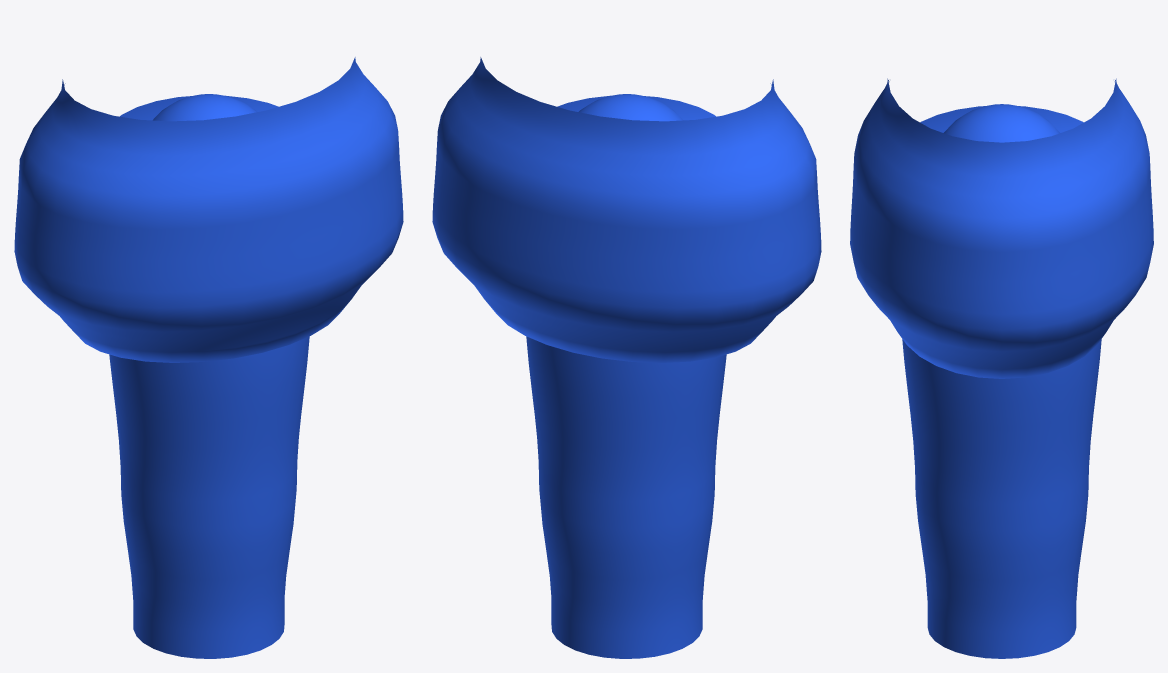
The model's file is bottom_tights_female.glb.
3 renders of one model, left to right at view 1: azimuth 30°, elevation 25°; view 2: azimuth 150°, elevation 25°; view 3: azimuth 270°, elevation 25°, orthographic.
Visible parts, largest first — view 1: pants, pant_leg, tight_knee; view 2: pants, pant_leg, tight_knee; view 3: pants, pant_leg, tight_knee.
Part boxes in pixels (bbox=[...]): pants: bbox=[14, 57, 403, 362]; pant_leg: bbox=[109, 95, 309, 658]; tight_knee: bbox=[153, 94, 256, 121]; pants: bbox=[432, 57, 821, 362]; pant_leg: bbox=[526, 95, 726, 658]; tight_knee: bbox=[579, 94, 682, 121]; pants: bbox=[850, 78, 1153, 378]; pant_leg: bbox=[902, 106, 1101, 658]; tight_knee: bbox=[944, 104, 1059, 142].
Bounding box in the file's own units: 0.338 × 0.5056 × 0.2535.
